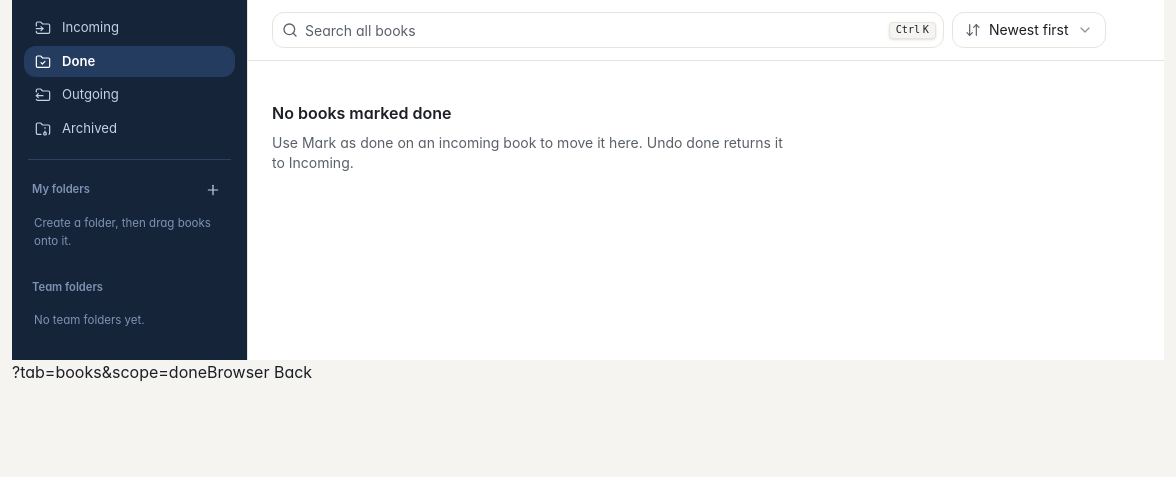
Test: Books routing desk › refreshes a cached destination scope after marking read on the next queue book
The image size is (1176, 477).
expect the heading "No books marked done" is shown: met, box [272,103,452,123]
Step 1. Click the button "Incoming" → [130, 28], box [24,12,235,44]
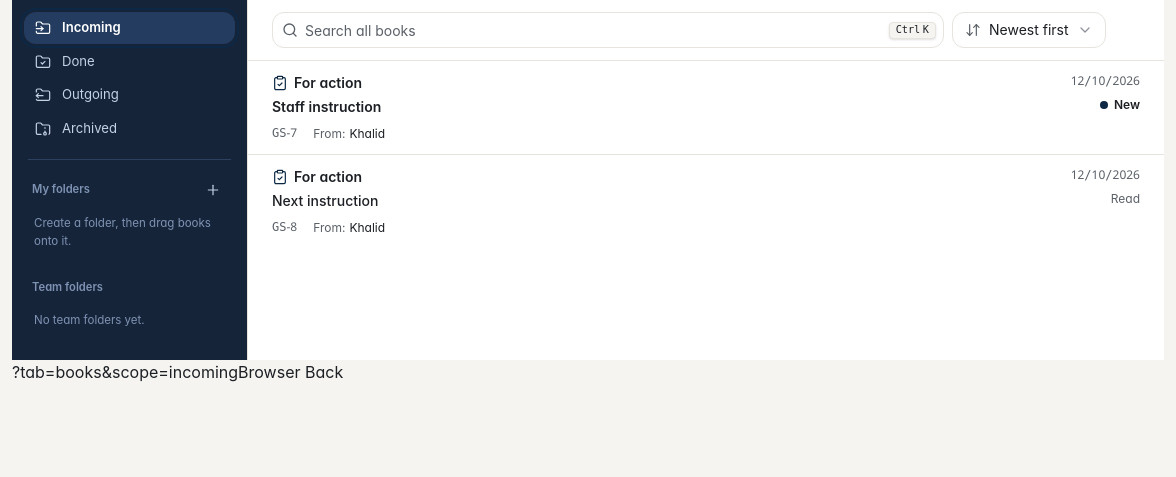
Step 2. Click the button "GS-7" → [328, 82], box [248,61,1164,154]
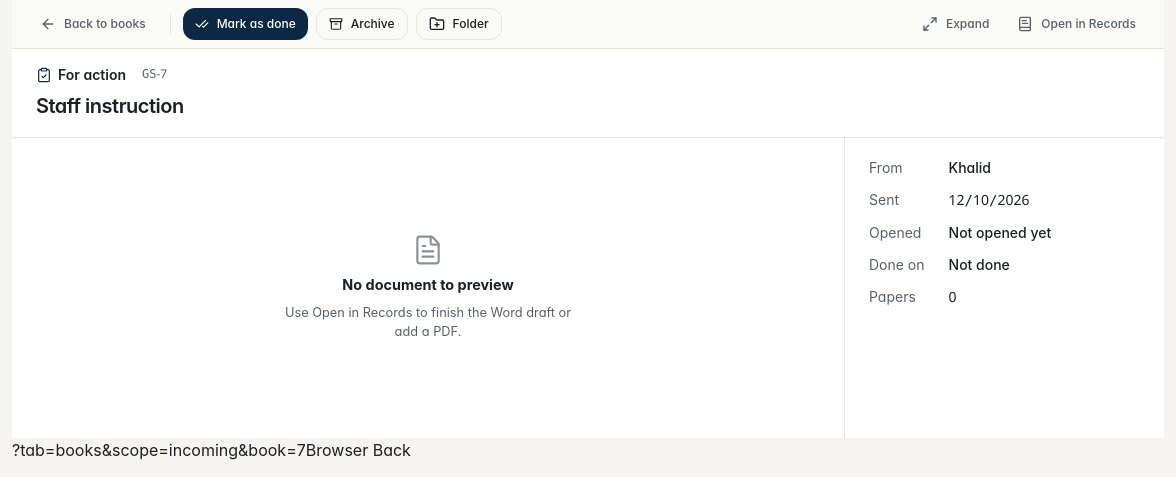
Step 3. Click the button "Mark as done" → [245, 24], box [183,8,308,40]
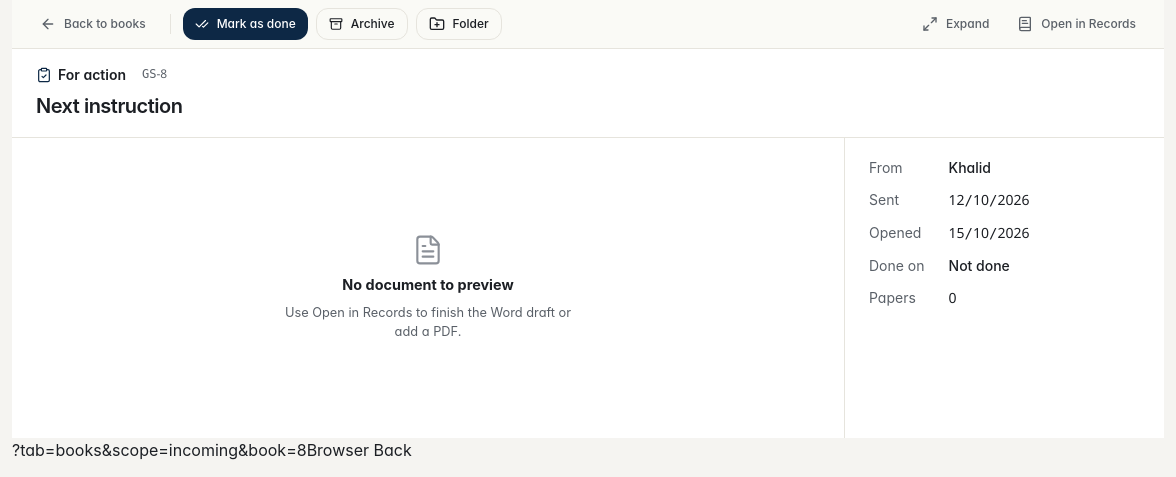
expect the heading "Next instruction" is shown: met, box [36,94,182,118]
Step 4. Click the button "Back to books" → [93, 24], box [28,8,158,40]
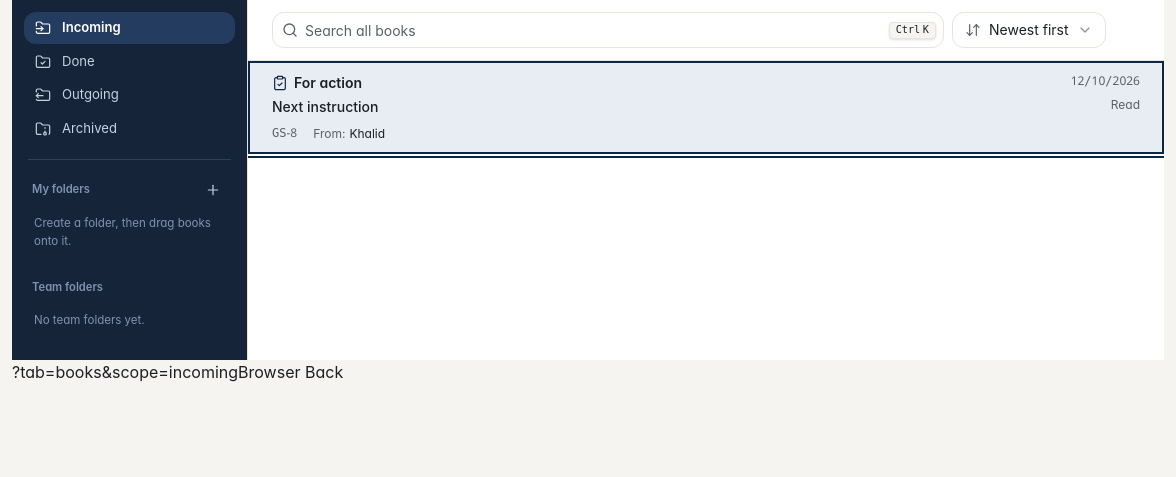
Step 5. Click the button "Done" → [130, 62], box [24,46,235,77]
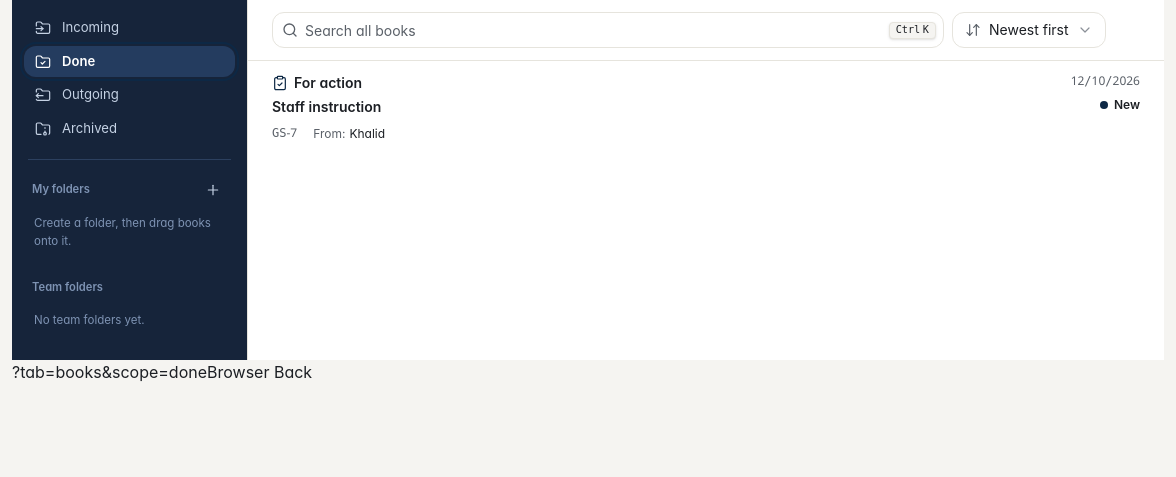
expect the button "GS-7" is shown: met, box [248,61,1164,154]
